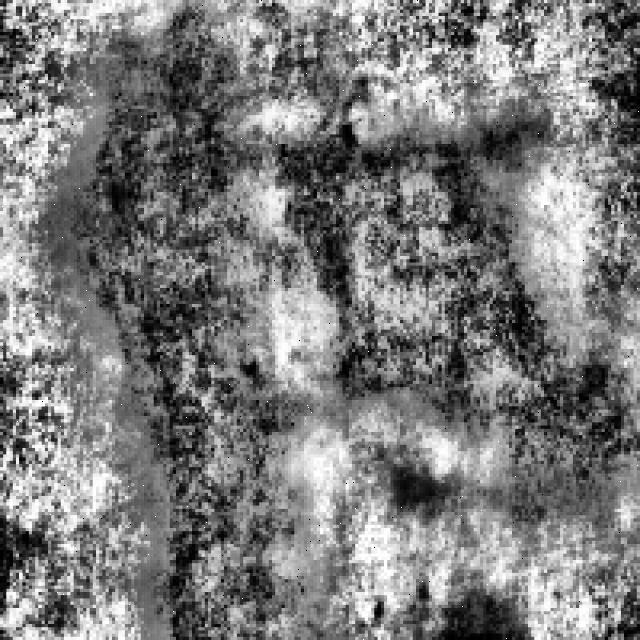Scratches: (38, 16, 285, 637), (266, 102, 628, 509)
